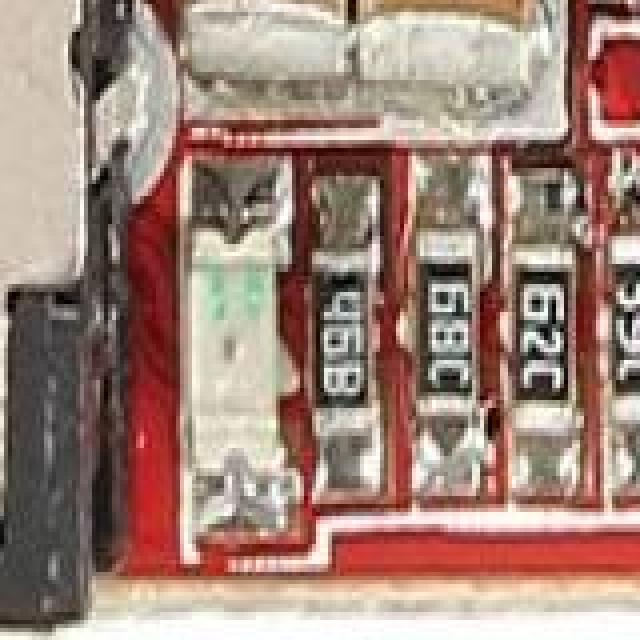LED: (176, 216, 292, 500)
capacitor: (348, 0, 556, 108), (184, 0, 348, 68)
connector: (0, 0, 132, 612)
resistor: (508, 200, 588, 454), (304, 244, 382, 466), (412, 220, 478, 442), (608, 212, 640, 424)
